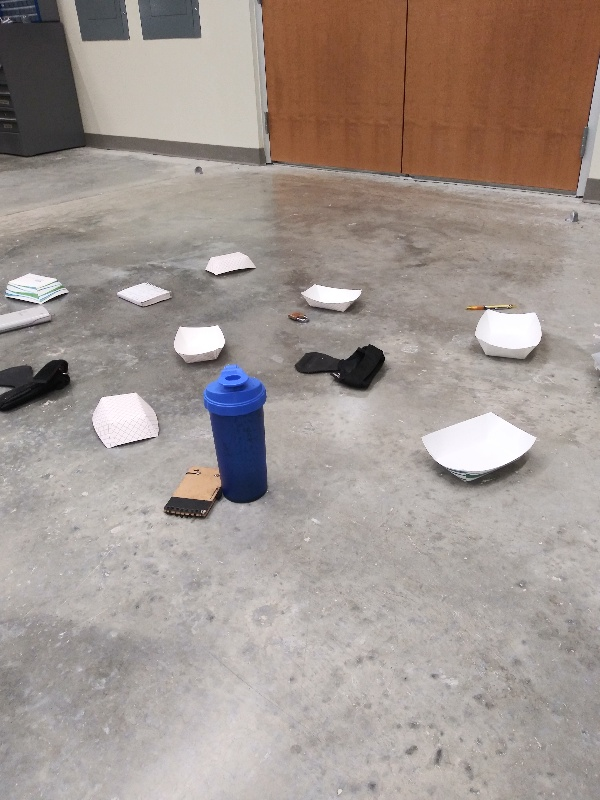plate: (414, 407, 543, 488), (86, 389, 166, 452), (471, 304, 546, 363), (4, 269, 75, 308), (171, 321, 230, 367), (297, 279, 368, 316), (198, 249, 262, 282)
